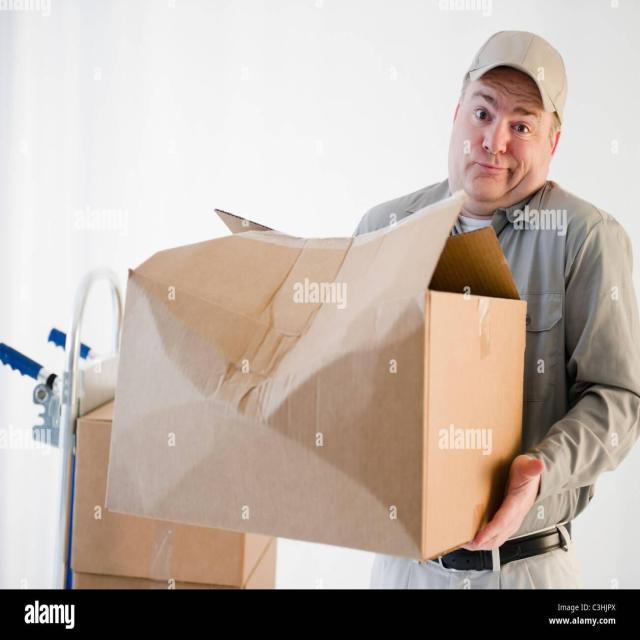Garbage: (102, 200, 539, 570)
